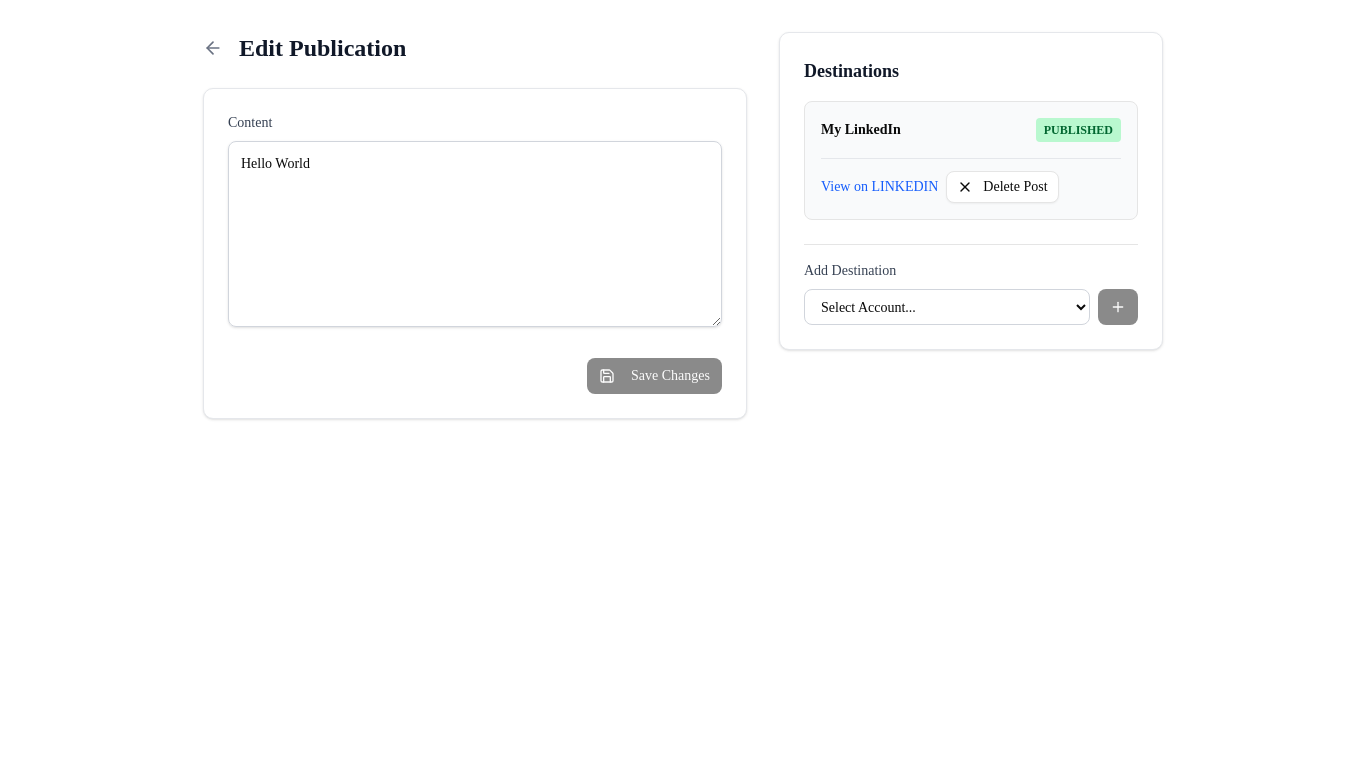
Scenario: H. API failure does not falsely display DELETED and shows error
Click the button "Delete Post" at (1002, 187), box [946,171,1059,203]
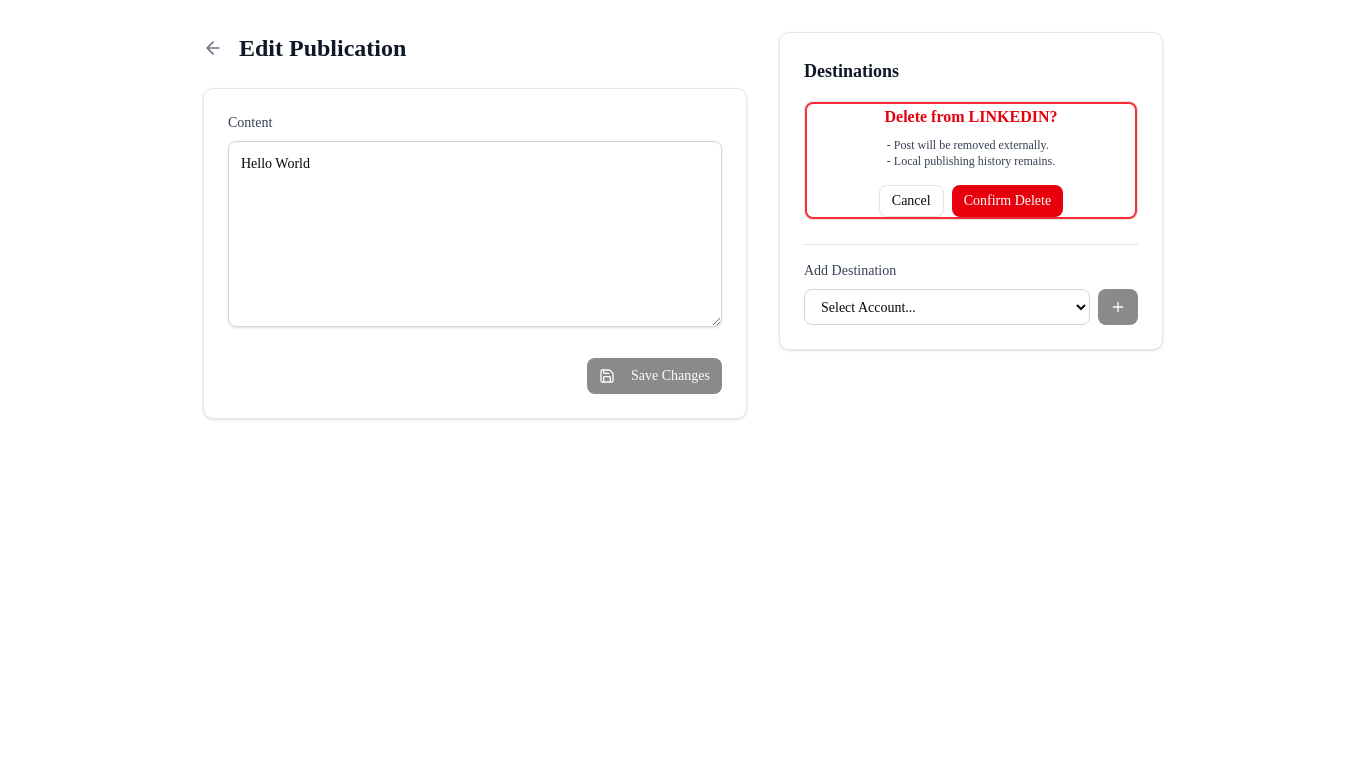
Click the button "Confirm Delete" at (1007, 200), box [952,184,1063,216]
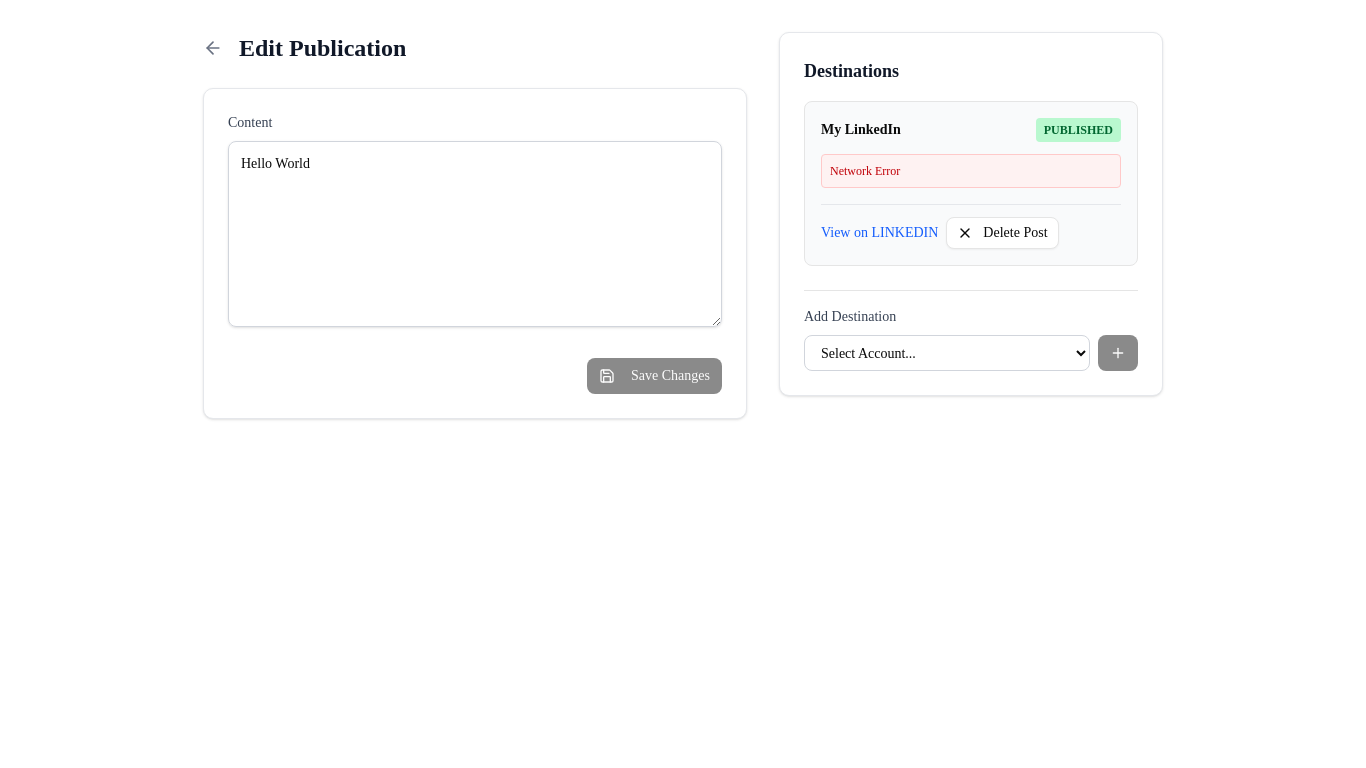
Expected: the text "PUBLISHED" is shown, [1036,118,1121,142]
Now the text "Network Error" is shown, box [821,154,1121,188]
